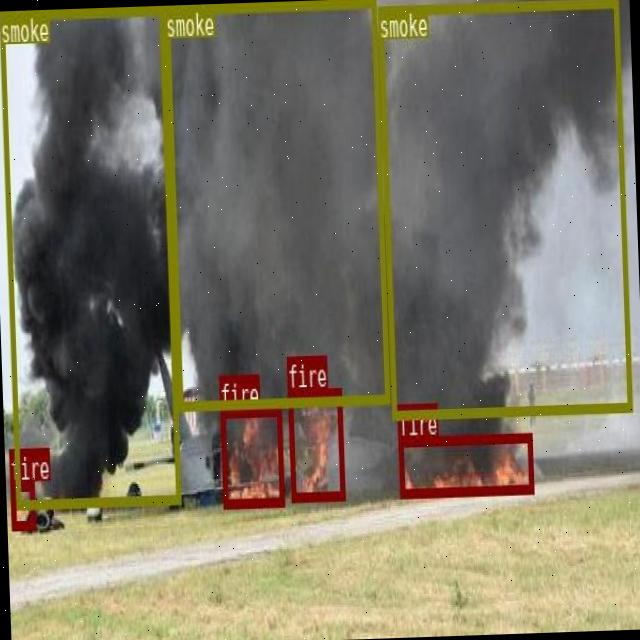fire: (397, 432, 533, 496), (219, 404, 283, 506), (288, 386, 344, 500), (8, 480, 34, 528)
smoke: (377, 0, 631, 417), (164, 0, 388, 408), (0, 5, 179, 505)
